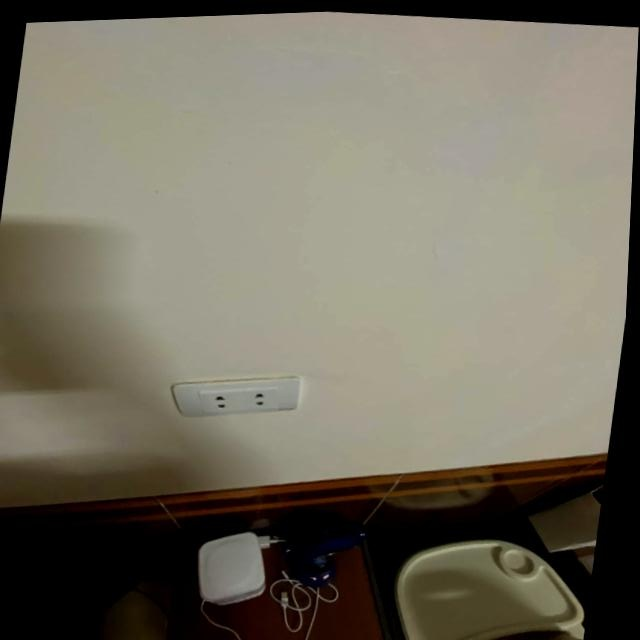outlet: (168, 364, 305, 428)
